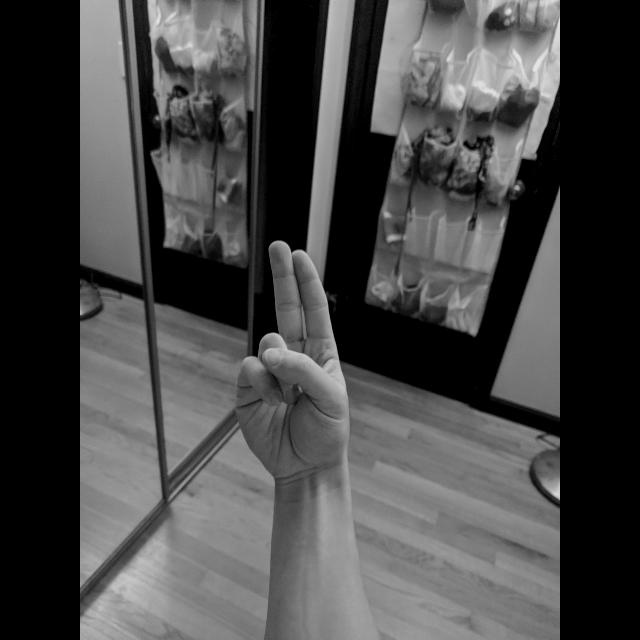U: (230, 236, 354, 484)
